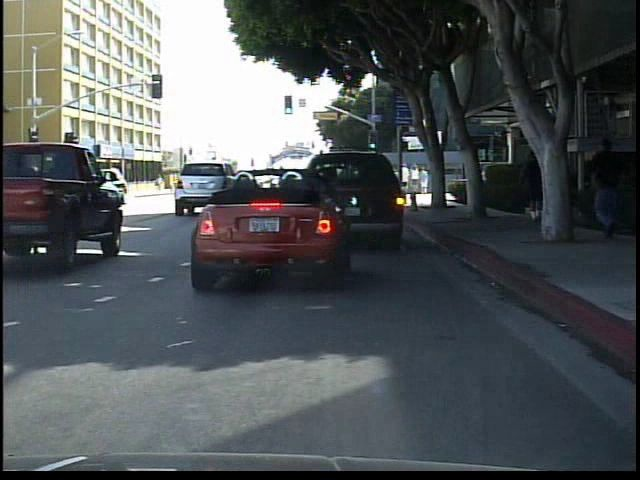person: (586, 133, 631, 240), (518, 148, 547, 230), (155, 171, 169, 194)
